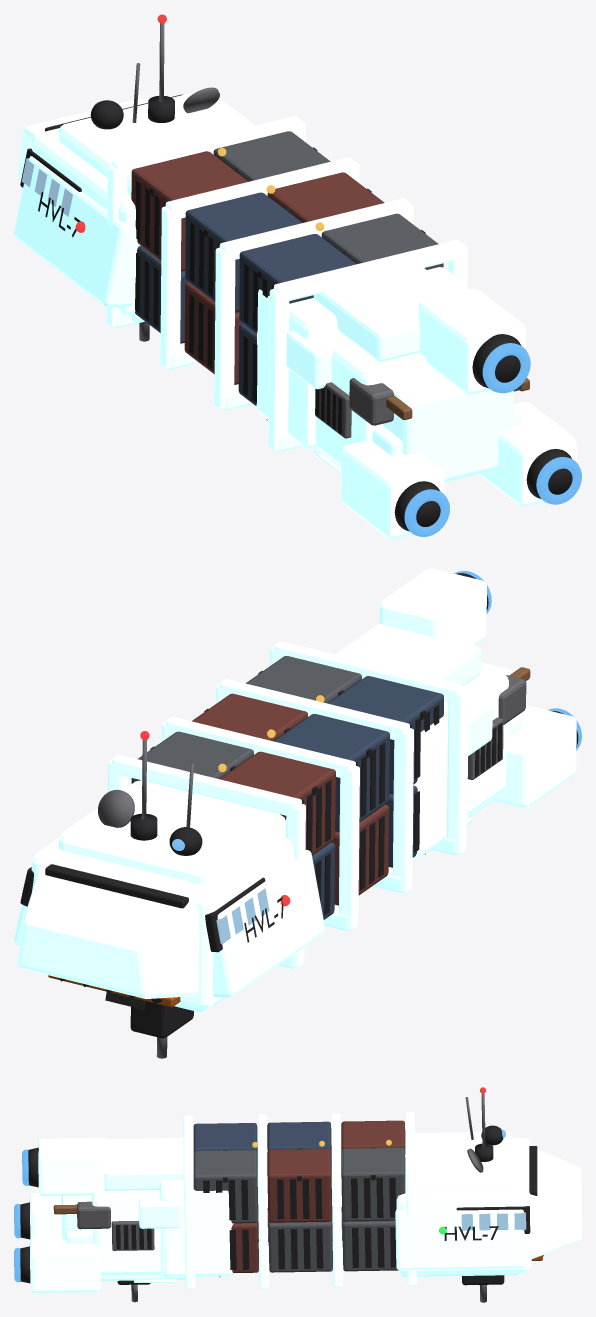
The model's file is canary-freight.glb.
3 views of the same model, one above another, from view 1: azimuth 30°, elevation 25°; view 2: azimuth 150°, elevation 25°; view 3: azimuth 270°, elevation 25° (orthographic). The views are drawn at different scales.
Parts seen in each view (by area): view 1: BowFlankL, AftTail, AftDeck, BowUpper, NacelleC, NacelleL, AftFwd, AftCore, Cargo07, Cargo11, NacelleR, Cargo03 (+26 smaller); view 2: BowProw, BowUpper, BowFlankL, BowCore, NacelleC, NacelleL, AftDeck, Cargo07, Cargo11, Cargo03, AftFwd, RibTop3 (+22 smaller); view 3: BowFlankR, BowUpper, AftFwd, BowProw, NacelleC, AftDeck, BowCore, Cargo06, NacelleR, Cargo10, AftCore, Cargo02 (+30 smaller).
Part boxes in pixels (box(x1,y1,x2,y2)): BowFlankL: box(14, 156, 140, 307); AftTail: box(383, 372, 513, 482); AftDeck: box(313, 266, 455, 361); BowUpper: box(58, 91, 255, 195); NacelleC: box(418, 288, 525, 394); NacelleL: box(340, 441, 444, 539); AftFwd: box(256, 267, 467, 449); AftCore: box(315, 331, 436, 466); Cargo07: box(185, 192, 302, 312); Cargo11: box(131, 151, 248, 271); NacelleR: box(478, 402, 576, 506); Cargo03: box(239, 234, 356, 333); BowProw: box(17, 866, 199, 998); BowUpper: box(59, 780, 285, 884); BowFlankL: box(212, 850, 325, 997); BowCore: box(31, 832, 293, 1010); NacelleC: box(379, 568, 486, 645); NacelleL: box(493, 705, 576, 808); AftDeck: box(335, 623, 480, 685); Cargo07: box(273, 714, 389, 832); Cargo11: box(219, 751, 335, 855); Cargo03: box(328, 676, 443, 794); AftFwd: box(412, 701, 468, 859); RibTop3: box(112, 754, 301, 815); BowFlankR: box(395, 1209, 525, 1270); BowUpper: box(405, 1131, 512, 1192); AftFwd: box(159, 1137, 233, 1277); BowProw: box(530, 1149, 581, 1258); NacelleC: box(38, 1137, 108, 1196); AftDeck: box(104, 1137, 193, 1190); BowCore: box(396, 1137, 531, 1274); Cargo06: box(267, 1149, 331, 1222); NacelleR: box(30, 1236, 100, 1292); Cargo10: box(341, 1148, 405, 1221); AftCore: box(92, 1190, 161, 1275); Cargo02: box(193, 1150, 257, 1223).
Bounding box in the file's own units: 2.48 × 3.44 × 8.06.
